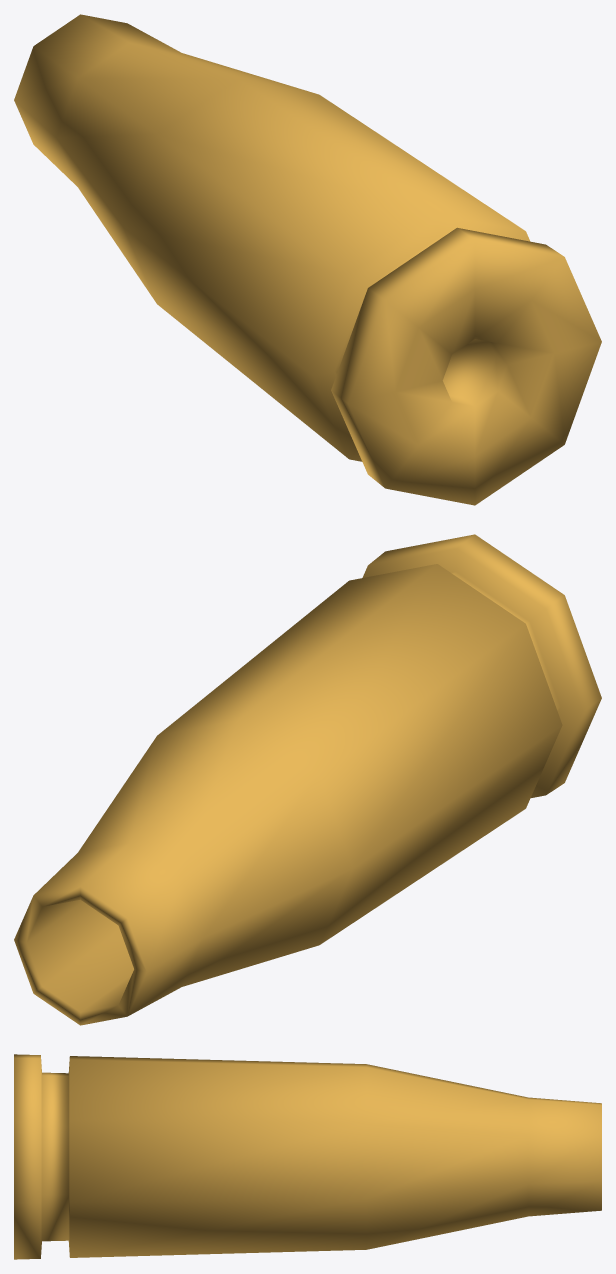
Rendered from Shell.002.fbx.
3 views of the same model, one above another, from view 1: azimuth 30°, elevation 25°; view 2: azimuth 150°, elevation 25°; view 3: azimuth 270°, elevation 25° (orthographic). The views are drawn at different scales.
Parts seen in each view (by area): view 1: Shell_002; view 2: Shell_002; view 3: Shell_002.
Boxes of the visible parts, x1,y1,x2,y2 form: Shell_002: (14,14,601,505); Shell_002: (14,534,601,1025); Shell_002: (14,1054,601,1259).
Size of the model in its own units: 74.27 by 74.27 by 200.
Materials: 1 (1 with a texture image).
